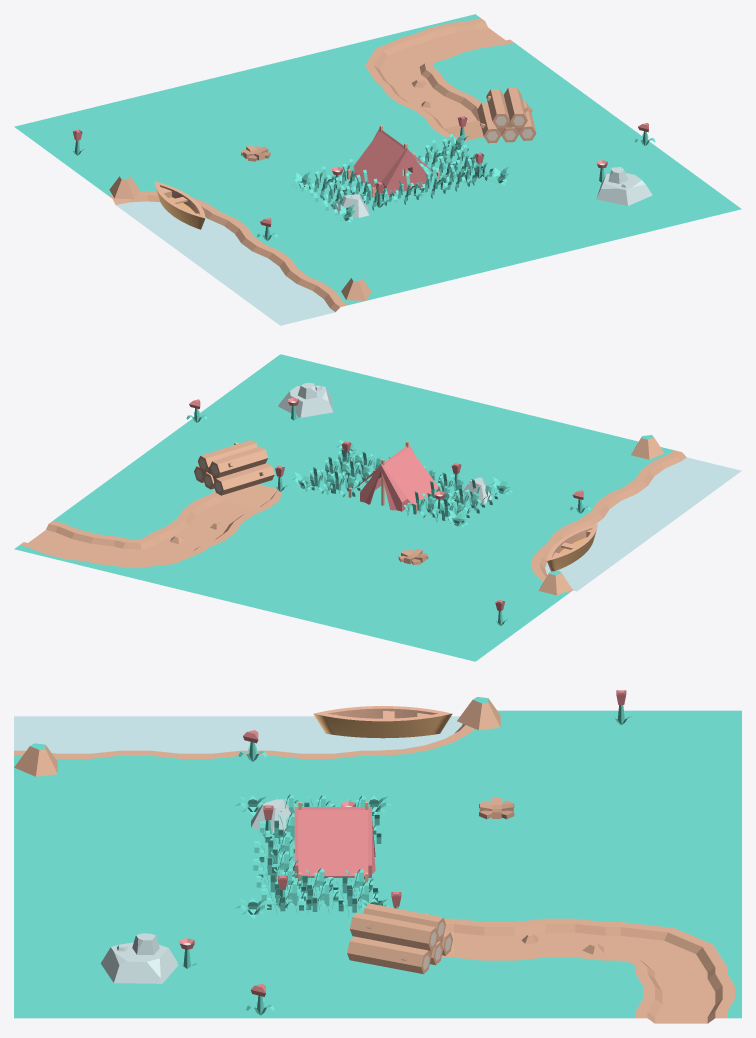
The model's file is new_world.glb.
3 renders of one model, top to bottom at view 1: azimuth 30°, elevation 25°; view 2: azimuth 150°, elevation 25°; view 3: azimuth 270°, elevation 25°, orthographic. The views are drawn at different scales.
Visible parts, largest first — view 1: ground_riverSide.001, ground_riverSide.002, ground_pathBend, ground_pathStraight, ground_pathRocks, ground_grass.002, ground_grass.011, ground_grass.012, ground_grass.016, ground_grass.017, ground_grass.018, ground_grass.019 (+30 smaller); view 2: ground_riverSide.001, ground_riverSide.002, ground_grass.011, ground_grass.018, ground_grass.016, ground_grass.021, ground_grass.012, ground_grass.017, ground_grass.002, ground_pathStraight, ground_grass.015, ground_grass.001 (+30 smaller); view 3: ground_pathBend, ground_grass.016, ground_grass.017, ground_grass.018, ground_grass.021, ground_pathRocks, ground_grass.002, ground_grass.011, ground_grass.012, ground_pathStraight, ground_grass, ground_grass.001 (+37 smaller).
Part boxes in pixels (left/top/right/bottom): ground_riverSide.001: left=192, top=239, right=312, bottom=293; ground_riverSide.002: left=236, top=270, right=356, bottom=325; ground_pathBend: left=322, top=33, right=442, bottom=83; ground_pathStraight: left=399, top=14, right=519, bottom=65; ground_pathRocks: left=366, top=65, right=486, bottom=116; ground_grass.002: left=91, top=89, right=211, bottom=140; ground_grass.011: left=168, top=70, right=288, bottom=121; ground_grass.012: left=390, top=233, right=510, bottom=284; ground_grass.016: left=289, top=84, right=409, bottom=135; ground_grass.017: left=245, top=51, right=365, bottom=102; ground_grass.018: left=467, top=214, right=587, bottom=265; ground_grass.019: left=422, top=182, right=543, bottom=232; ground_riverSide.001: left=577, top=480, right=696, bottom=535; ground_riverSide.002: left=621, top=448, right=741, bottom=503; ground_grass.011: left=245, top=573, right=365, bottom=624; ground_grass.018: left=390, top=391, right=510, bottom=442; ground_grass.016: left=212, top=522, right=333, bottom=572; ground_grass.021: left=59, top=484, right=178, bottom=535; ground_grass.012: left=467, top=410, right=587, bottom=461; ground_grass.017: left=168, top=554, right=288, bottom=605; ground_grass.002: left=322, top=592, right=442, bottom=642; ground_pathStraight: left=14, top=516, right=134, bottom=567; ground_grass.015: left=257, top=489, right=377, bottom=540; ground_grass.001: left=399, top=610, right=519, bottom=661; ground_pathBend: left=620, top=915, right=741, bottom=972; ground_grass.016: left=499, top=864, right=620, bottom=915; ground_grass.017: left=620, top=864, right=741, bottom=915; ground_grass.018: left=14, top=864, right=135, bottom=915; ground_grass.021: left=499, top=967, right=620, bottom=1018; ground_pathRocks: left=499, top=915, right=620, bottom=966; ground_grass.002: left=620, top=762, right=741, bottom=813; ground_grass.011: left=620, top=813, right=741, bottom=864; ground_grass.012: left=14, top=813, right=135, bottom=864; ground_pathStraight: left=620, top=967, right=741, bottom=1023; ground_grass: left=499, top=710, right=620, bottom=761; ground_grass.001: left=620, top=710, right=741, bottom=761.
Size of the model in its own units: 6 by 0.6111 by 6.
